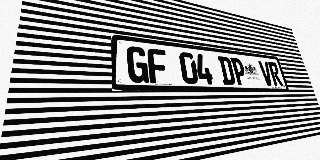0: (178, 52, 199, 84)
4: (194, 53, 214, 84)
D: (218, 56, 236, 85)
F: (147, 48, 169, 83)
G: (126, 46, 149, 83)
P: (230, 57, 248, 85)
R: (267, 62, 283, 86)
V: (258, 61, 274, 86)
